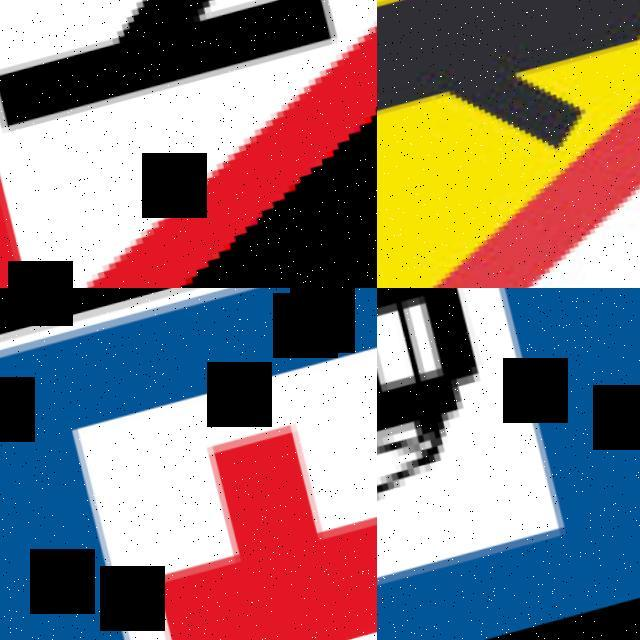166: (377, 0, 640, 288)
Filling station: (377, 288, 640, 640)
First aid post: (0, 288, 377, 640)
Oblique side road junction: (0, 0, 377, 288)
